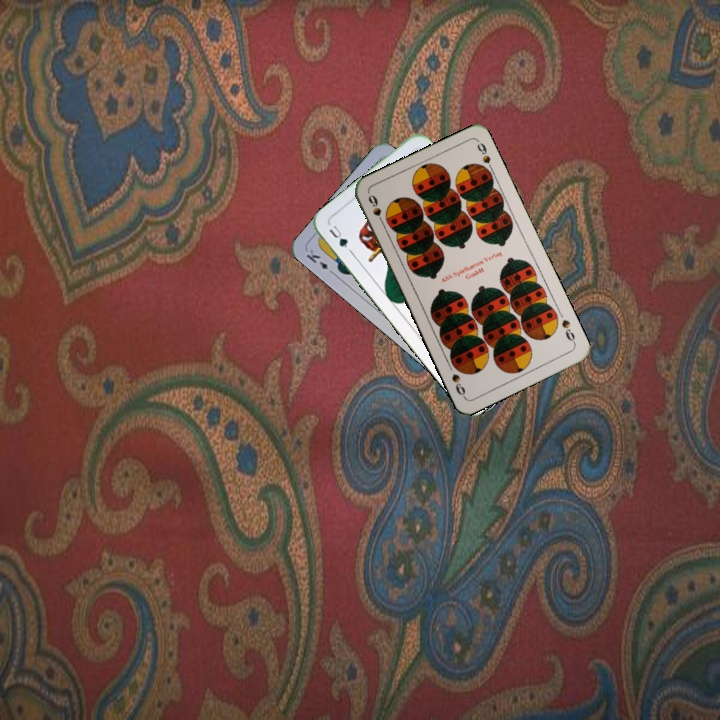EK: (302, 245, 338, 278)
GU: (325, 221, 354, 255)
S9: (364, 190, 387, 229), (557, 315, 578, 347)
